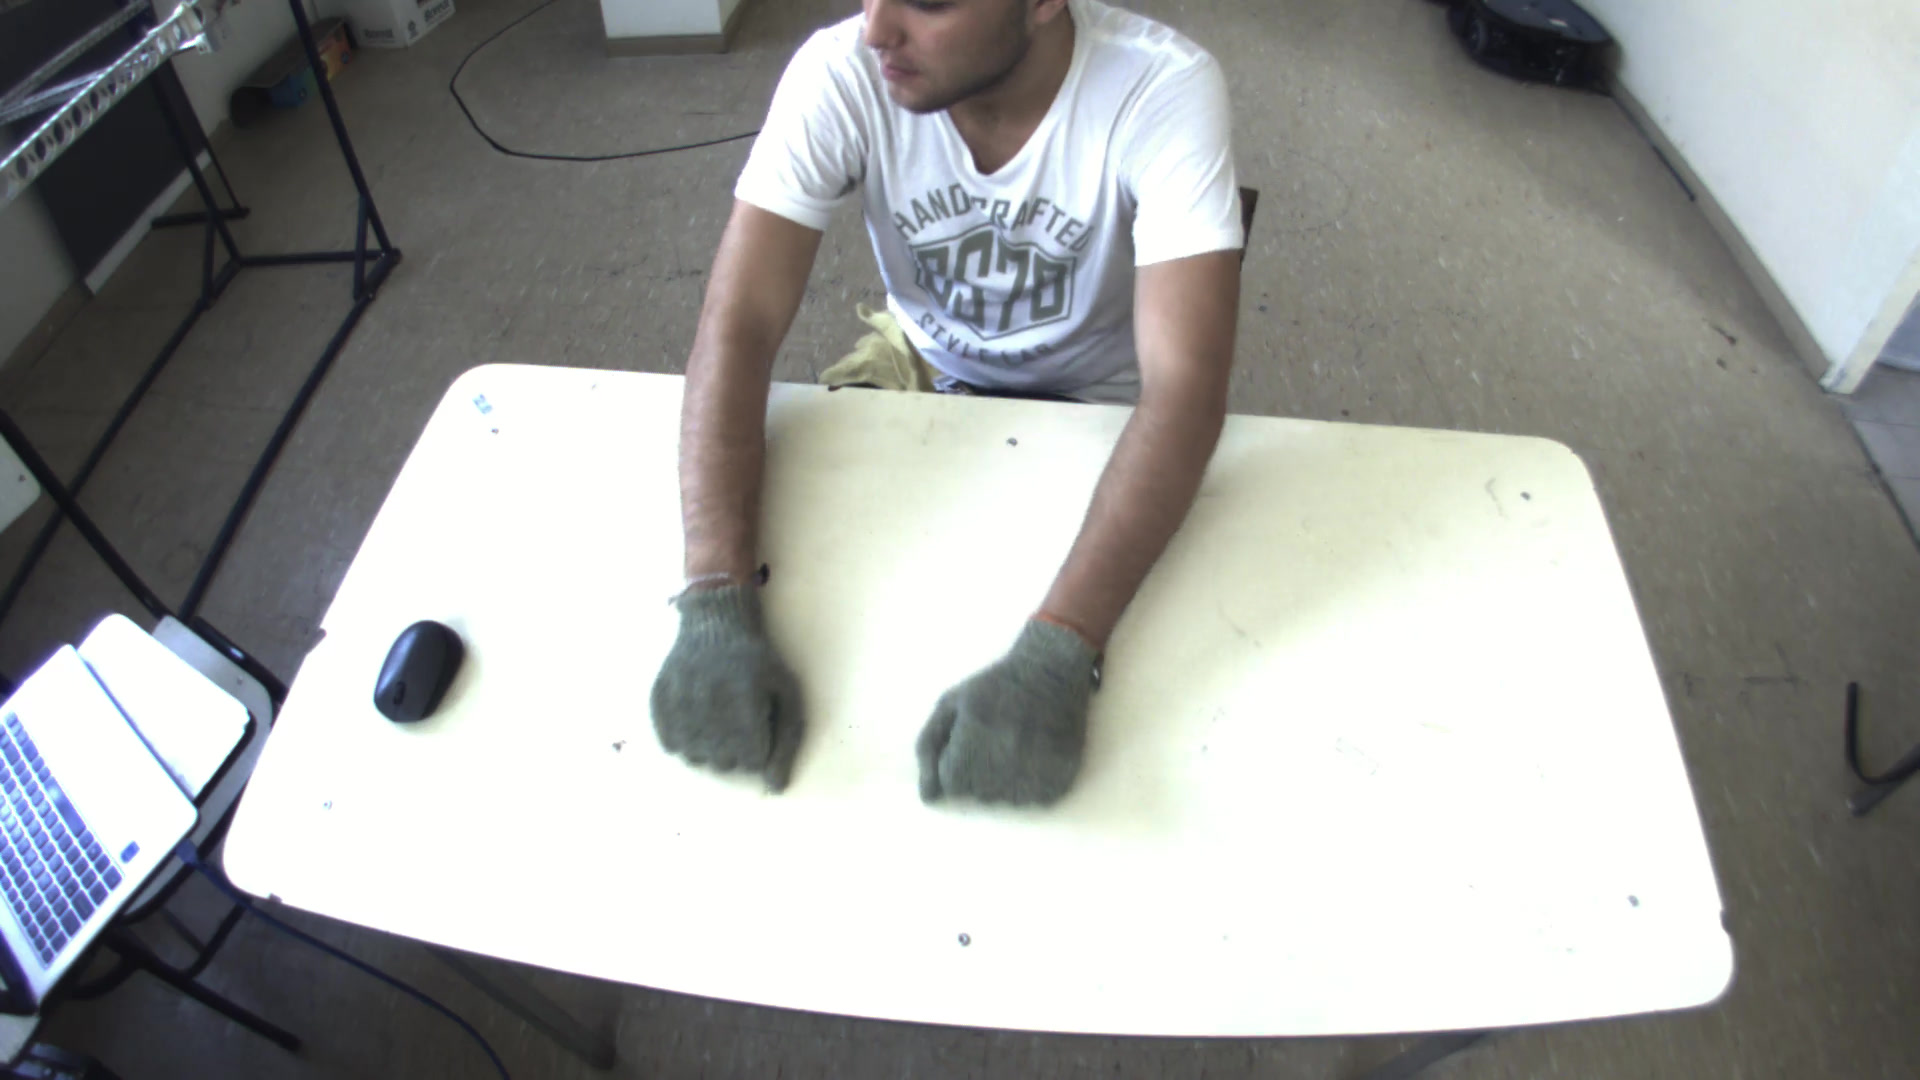hand: (909, 618, 1112, 815), (636, 568, 808, 789)
